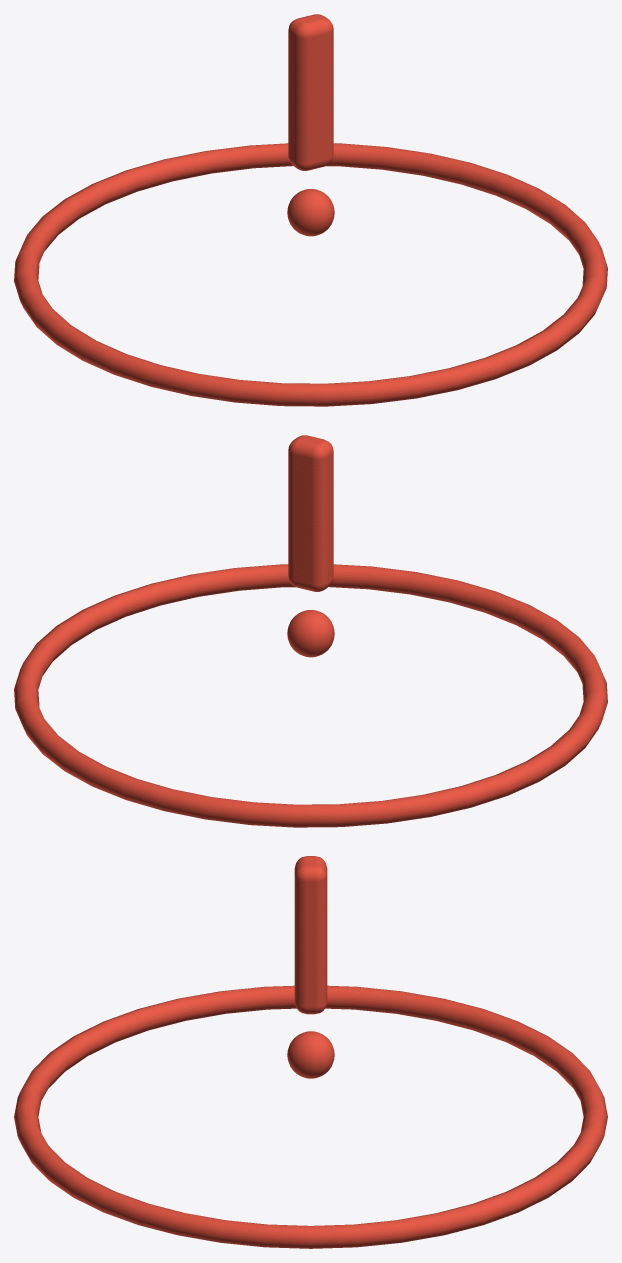
The model's file is Bomb_Warning.glb.
3 views of the same model, one above another, from view 1: azimuth 30°, elevation 25°; view 2: azimuth 150°, elevation 25°; view 3: azimuth 270°, elevation 25° (orthographic).
Parts seen in each view (by area): view 1: Bomb_Warning; view 2: Bomb_Warning; view 3: Bomb_Warning.
Part boxes in pixels (x1=…): Bomb_Warning: x1=14, y1=14, x2=607, y2=406; Bomb_Warning: x1=14, y1=435, x2=607, y2=827; Bomb_Warning: x1=14, y1=856, x2=607, y2=1248.
Bounding box in the file's own units: 0.876 × 0.434 × 0.876.
1 material, 1 textured.
